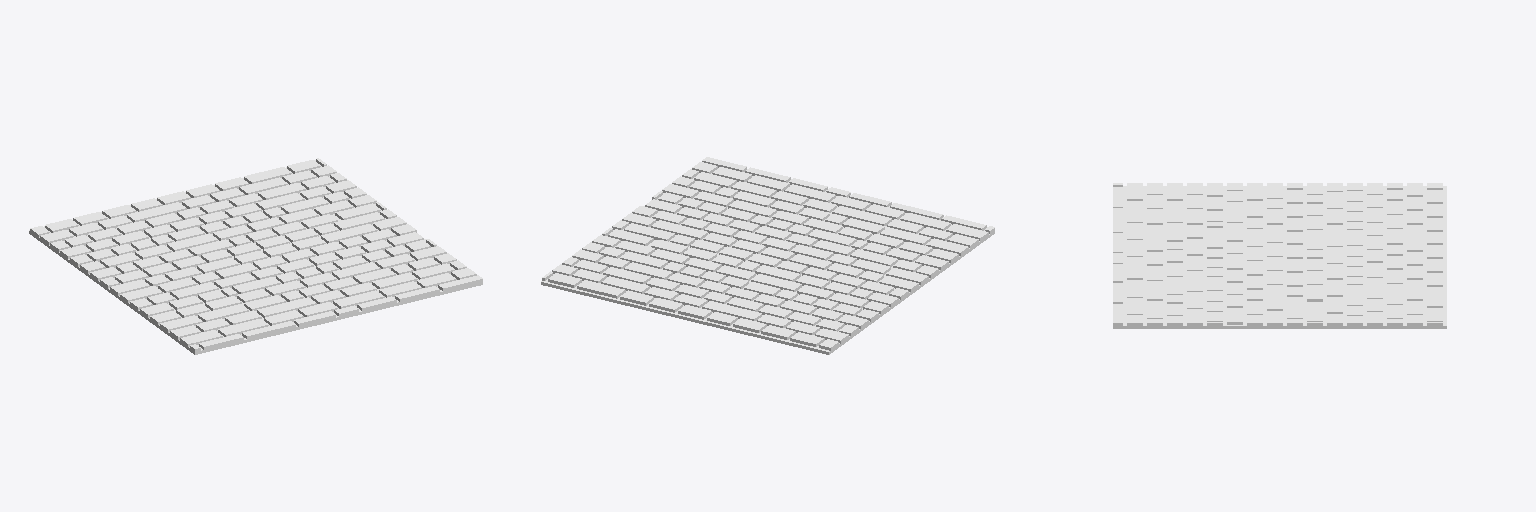
Rendered from FloorCastle.obj.
3 views of the same model, side by side, from view 1: azimuth 30°, elevation 25°; view 2: azimuth 150°, elevation 25°; view 3: azimuth 270°, elevation 25° (orthographic).
Visible parts, largest first — view 1: object 1; view 2: object 1; view 3: object 1.
Part boxes in pixels (left/top/right/bottom): object 1: left=29, top=158, right=482, bottom=354; object 1: left=541, top=157, right=994, bottom=354; object 1: left=1113, top=183, right=1446, bottom=328.
Size of the model in its own units: 10 by 0.2 by 10.